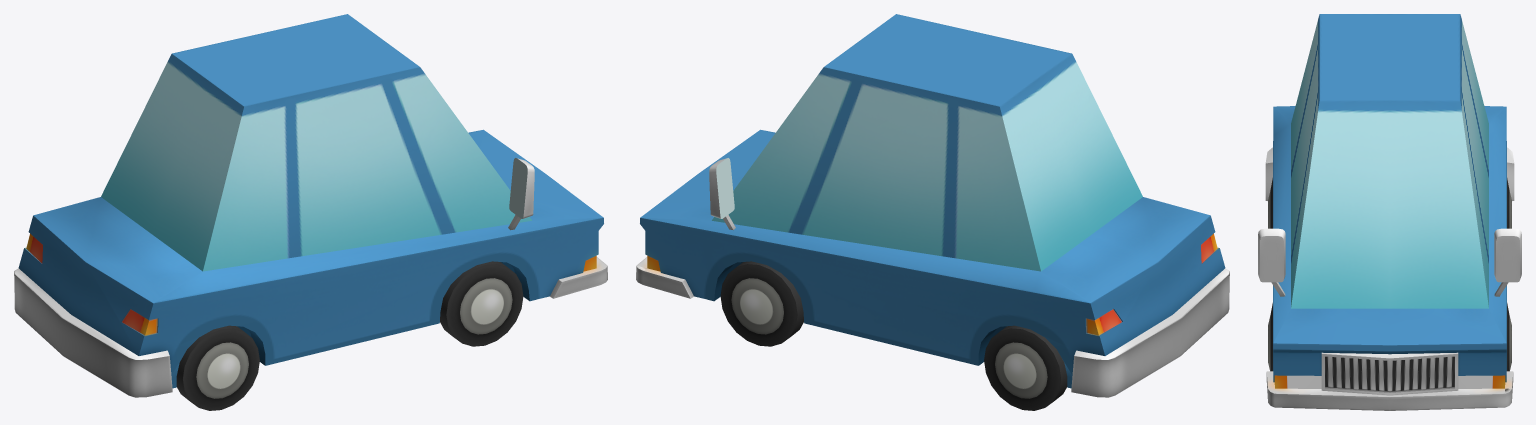
Rendered from ENV2010023.fbx.
The picture shows the model from 3 angles, left to right: view 1: azimuth 30°, elevation 25°; view 2: azimuth 150°, elevation 25°; view 3: azimuth 270°, elevation 25°; orthographic projection. The views are drawn at different scales.
Parts seen in each view (by area): view 1: smENV2010023; view 2: smENV2010023; view 3: smENV2010023.
Part boxes in pixels (x1=…): smENV2010023: x1=14, y1=14, x2=607, y2=410; smENV2010023: x1=636, y1=14, x2=1229, y2=410; smENV2010023: x1=1258, y1=14, x2=1521, y2=410.
Bounding box in the file's own units: 17.17 × 9.15 × 8.22.
1 material, 1 textured.
